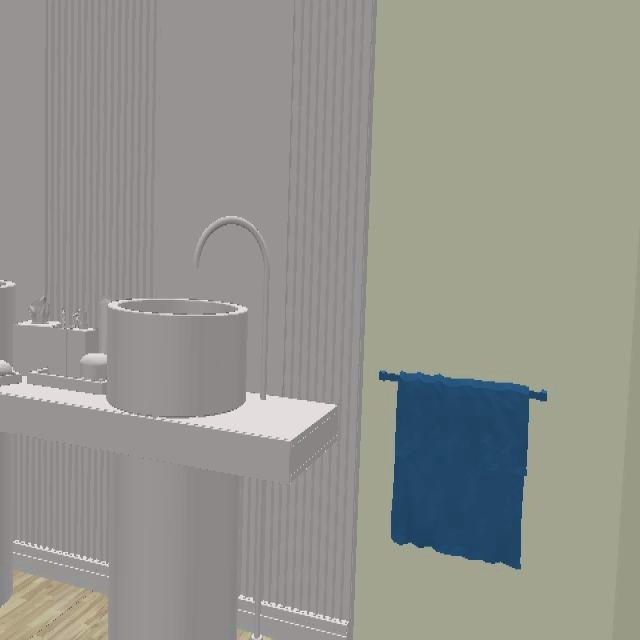washbasin: (103, 297, 248, 420)
